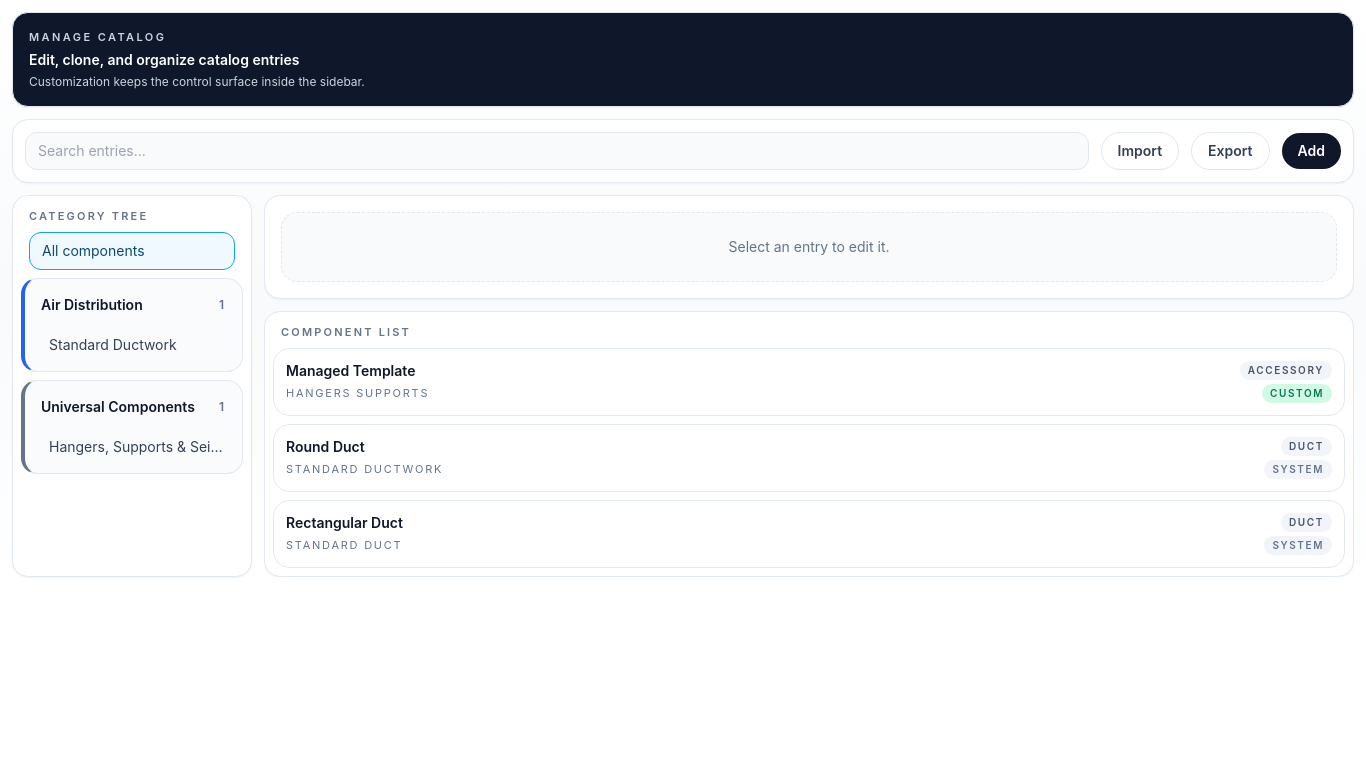
Test: ManagePanel › filters the list by category and opens the read-only customizer flow for system entries
Expected: the button "Import" is shown, [1101, 132, 1179, 170]
Expected: the button "Export" is shown, [1191, 132, 1270, 170]
Click the button with test id "manage-category-leaf-standard_ductwork". click: (138, 345)
box: [41, 327, 234, 363]
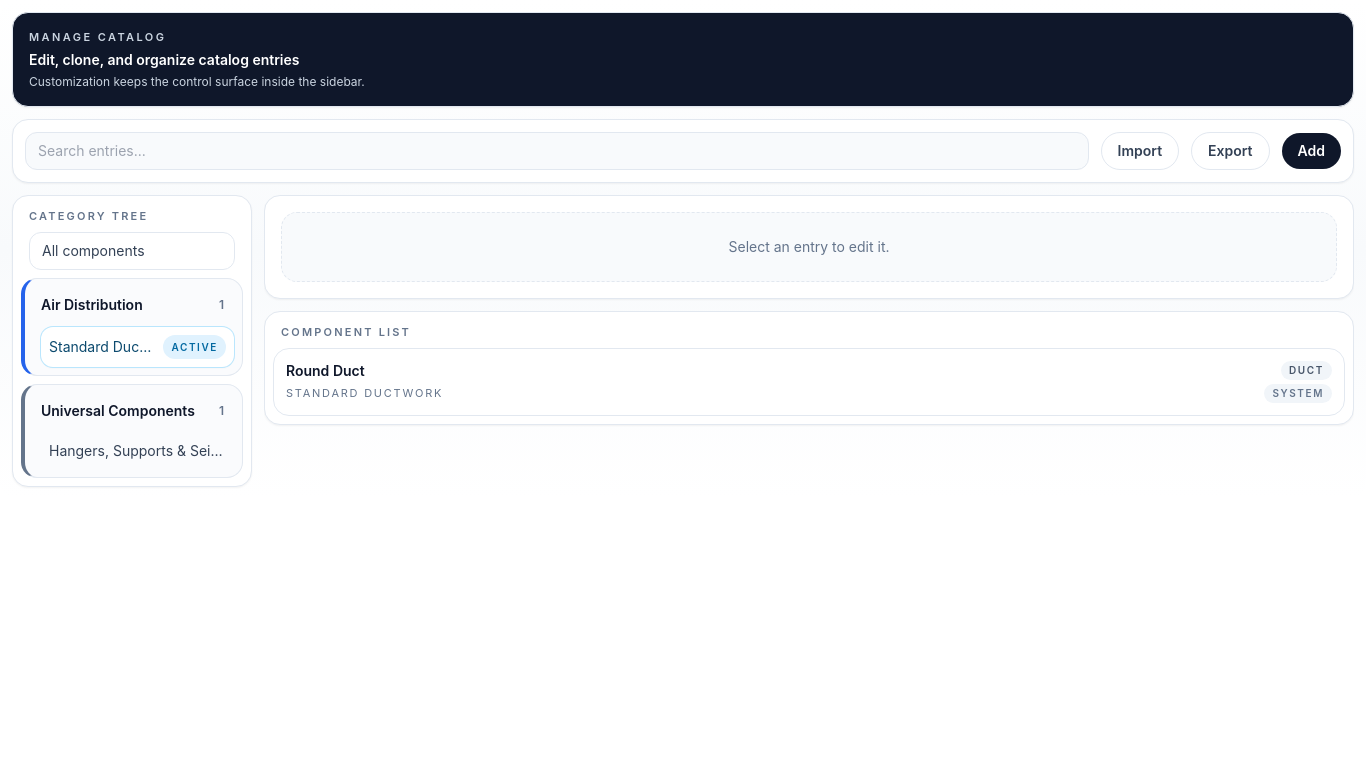
Expected: the button with test id "manage-entry-rect-duct" is gone
Click the button with test id "manage-entry-round-duct". click: (325, 370)
box: [273, 348, 1345, 416]
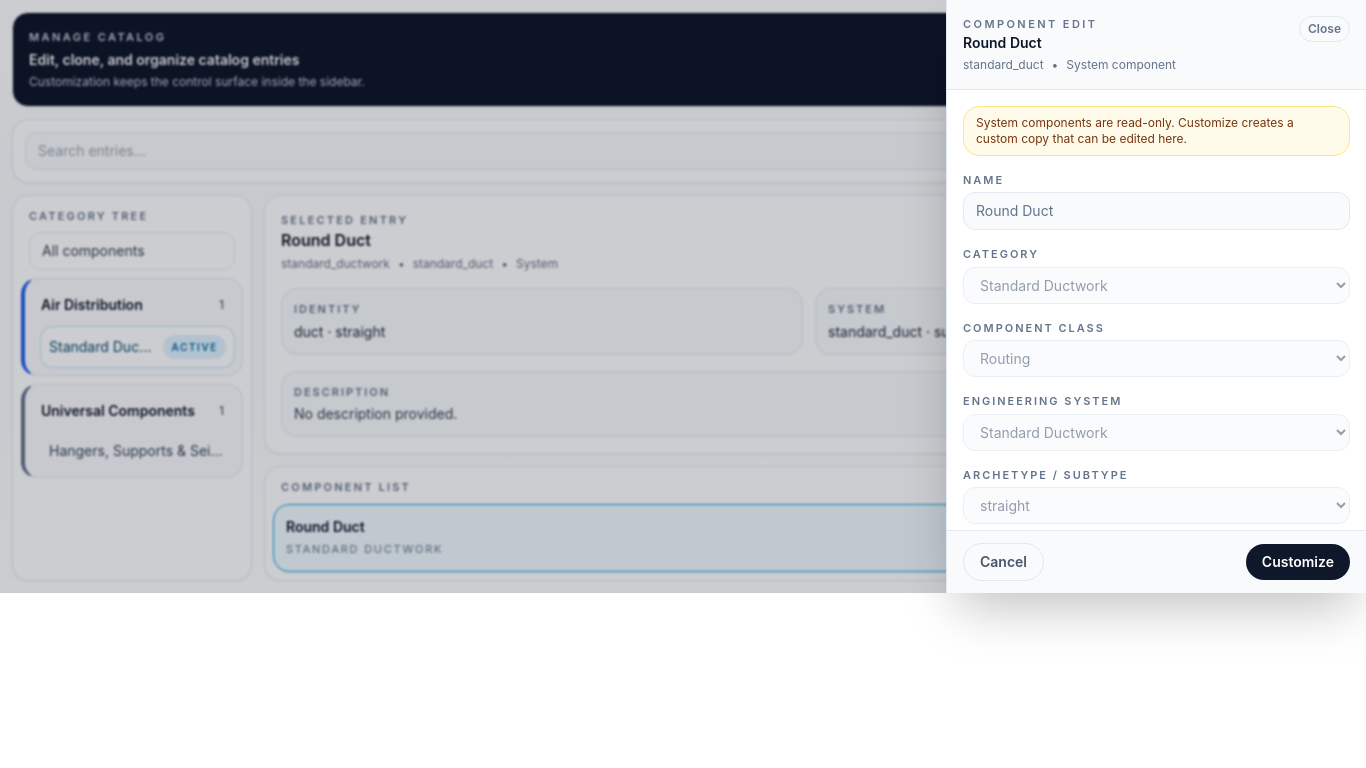
Expected: the text "System components are read-only. Customize creates a custom copy that can be edited here." is shown, [976, 114, 1294, 146]
Expected: the button "Customize" is shown
Click the button "Customize". click: (1298, 562)
box: [1246, 544, 1350, 580]
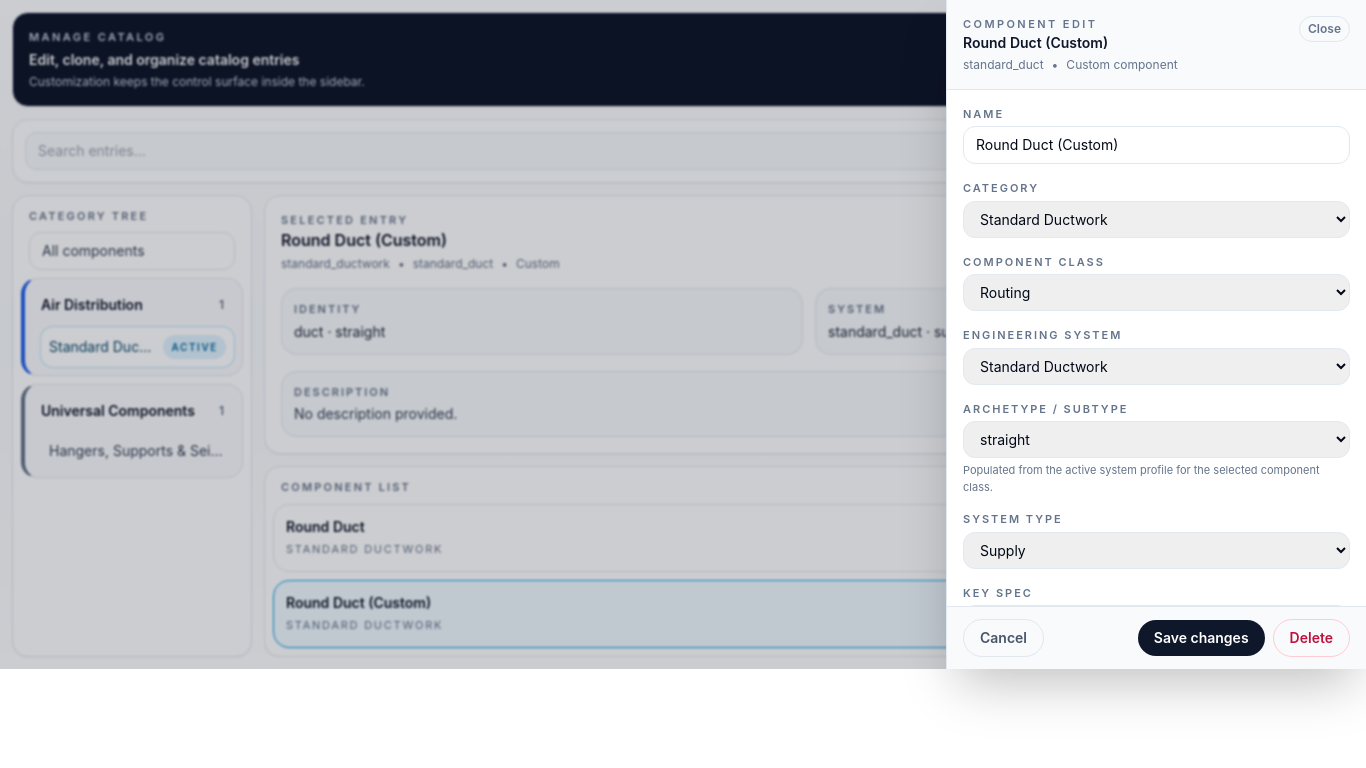
Expected: the heading "Round Duct (Custom)" below "Selected entry" is shown, [281, 230, 447, 250]
